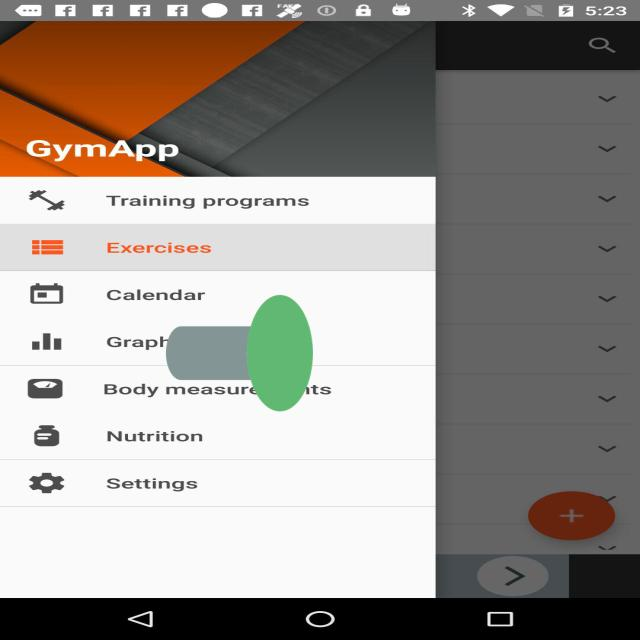social proof: (166, 223, 313, 483)
